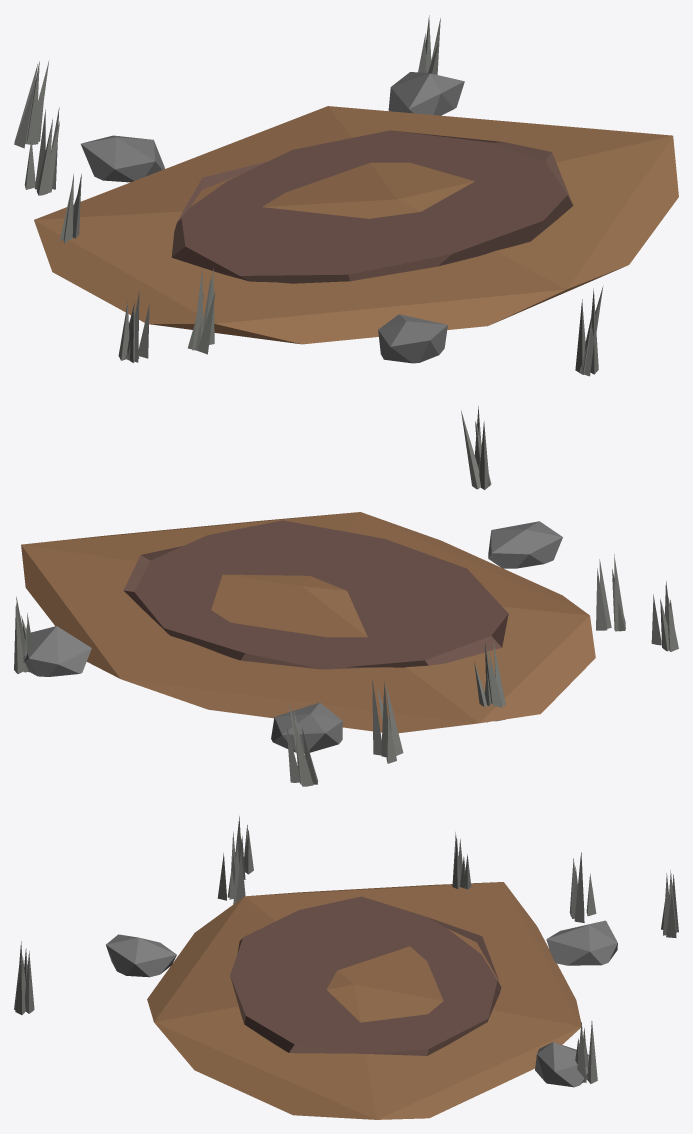
Rendered from lair-wallow.glb.
3 views of the same model, one above another, from view 1: azimuth 30°, elevation 25°; view 2: azimuth 150°, elevation 25°; view 3: azimuth 270°, elevation 25° (orthographic). The views are drawn at different scales.
Parts seen in each view (by area): view 1: lair-wallow; view 2: lair-wallow; view 3: lair-wallow.
Part boxes in pixels (x1=…): lair-wallow: x1=14, y1=15, x2=678, y2=376; lair-wallow: x1=14, y1=406, x2=678, y2=786; lair-wallow: x1=14, y1=816, x2=678, y2=1119.
Size of the model in its own units: 5.03 by 0.6419 by 5.34.
